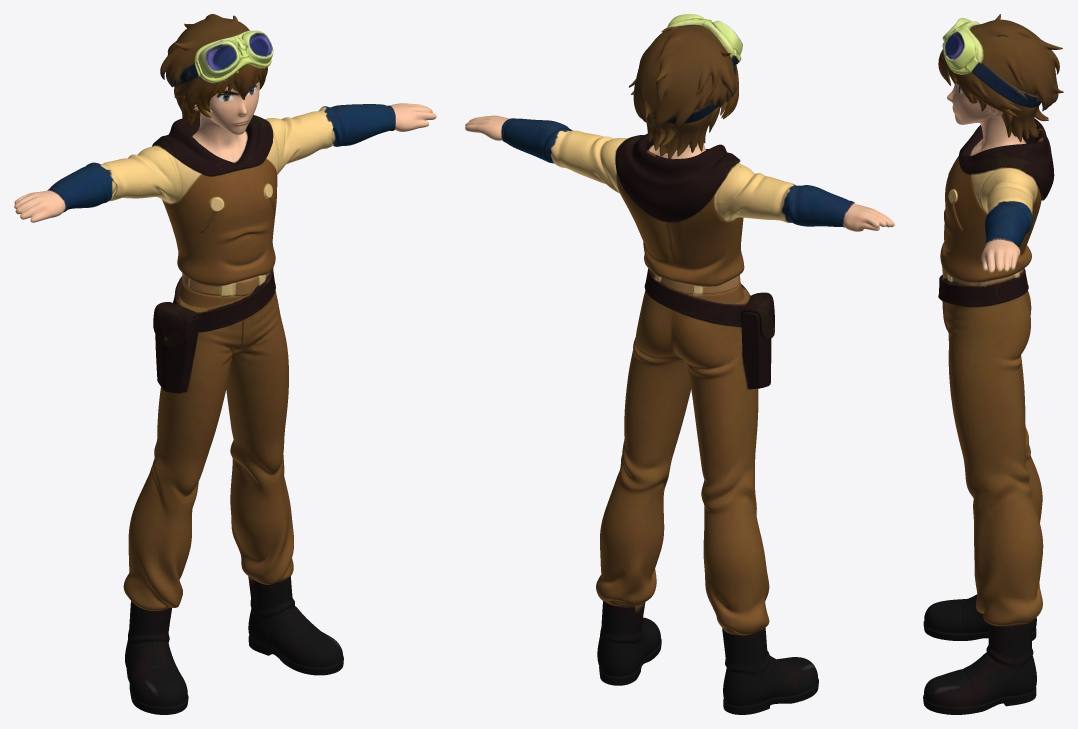
The model's file is rand-casual.glb.
3 views of the same model, side by side, from view 1: azimuth 30°, elevation 25°; view 2: azimuth 150°, elevation 25°; view 3: azimuth 270°, elevation 25° (orthographic).
Visible parts, largest first — view 1: Mesh_0; view 2: Mesh_0; view 3: Mesh_0.
Boxes of the visible parts, box(x1,y1,x2,y2) form: Mesh_0: box(14, 14, 436, 714); Mesh_0: box(465, 14, 894, 714); Mesh_0: box(923, 14, 1063, 714).
Bounding box in the file's own units: 1.28 × 1.89 × 0.3742.
Materials: 1 (1 with a texture image).
